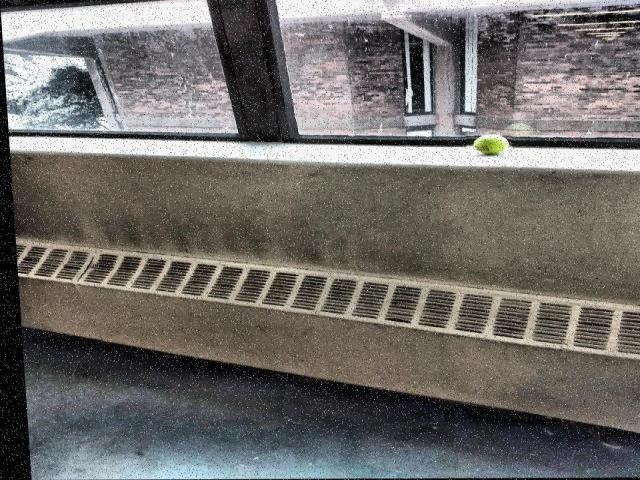tennis-ball: (474, 134, 509, 155)
